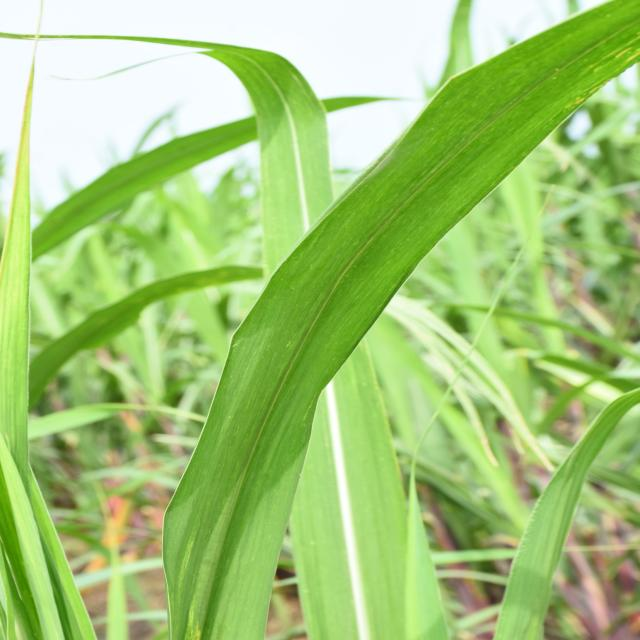Sugarcane: (161, 0, 640, 640)
